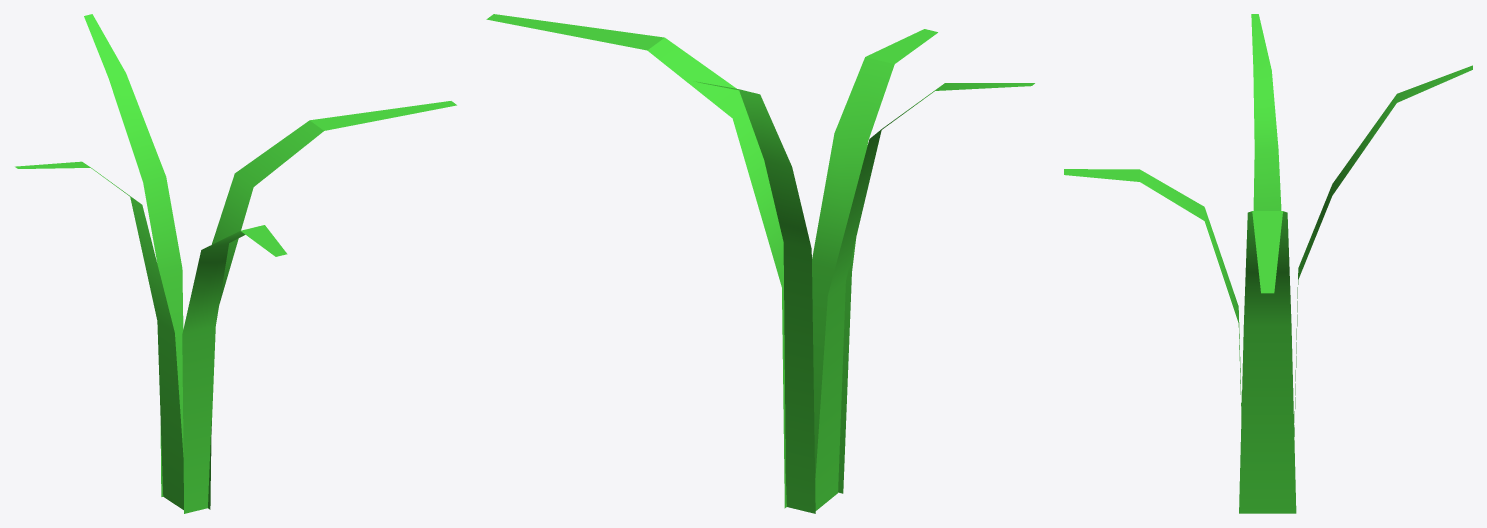
Rendered from rumput1.fbx.
The picture shows the model from 3 angles, left to right: view 1: azimuth 30°, elevation 25°; view 2: azimuth 150°, elevation 25°; view 3: azimuth 270°, elevation 25°; orthographic projection. The views are drawn at different scales.
Parts seen in each view (by area): view 1: Plane.003, Plane.002, Plane.001, Plane; view 2: Plane.002, Plane.003, Plane, Plane.001; view 3: Plane, Plane.001, Plane.003, Plane.002.
Part boxes in pixels (bbox=[...]): Plane.003: bbox=[182, 225, 287, 513]; Plane.002: bbox=[84, 14, 183, 496]; Plane.001: bbox=[15, 161, 183, 509]; Plane: bbox=[208, 101, 456, 509]; Plane.002: bbox=[696, 81, 815, 513]; Plane.003: bbox=[812, 29, 937, 493]; Plane: bbox=[486, 14, 786, 508]; Plane.001: bbox=[815, 83, 1034, 510]; Plane: bbox=[1239, 211, 1296, 513]; Plane.001: bbox=[1251, 14, 1281, 210]; Plane.003: bbox=[1064, 169, 1241, 415]; Plane.002: bbox=[1294, 65, 1472, 436].
Bounding box in the file's own units: 2.47 × 2.22 × 1.87.
